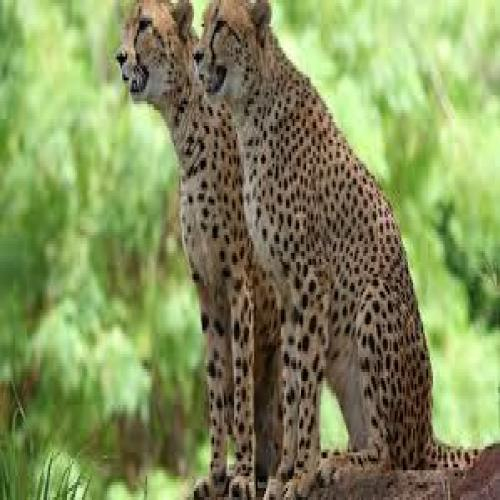cheetah-endangered: (194, 0, 482, 497), (117, 0, 286, 495)
